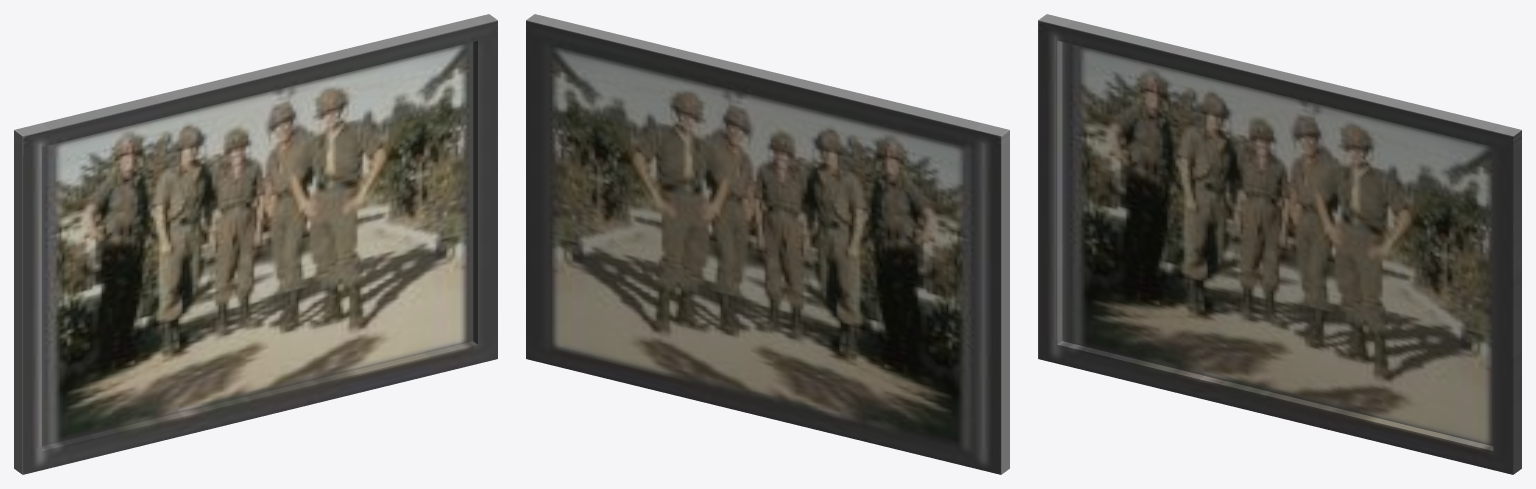
Rendered from vet_photo_3.FBX.
3 views of the same model, side by side, from view 1: azimuth 30°, elevation 25°; view 2: azimuth 150°, elevation 25°; view 3: azimuth 330°, elevation 25° (orthographic).
Parts seen in each view (by area): view 1: Plane004; view 2: Plane004; view 3: Plane004.
Boxes of the visible parts, <box> form: Plane004: <box>14,14,497,474</box>; Plane004: <box>526,14,1009,474</box>; Plane004: <box>1038,14,1521,474</box>.
Size of the model in its own units: 59.64 by 40.62 by 1.89.
